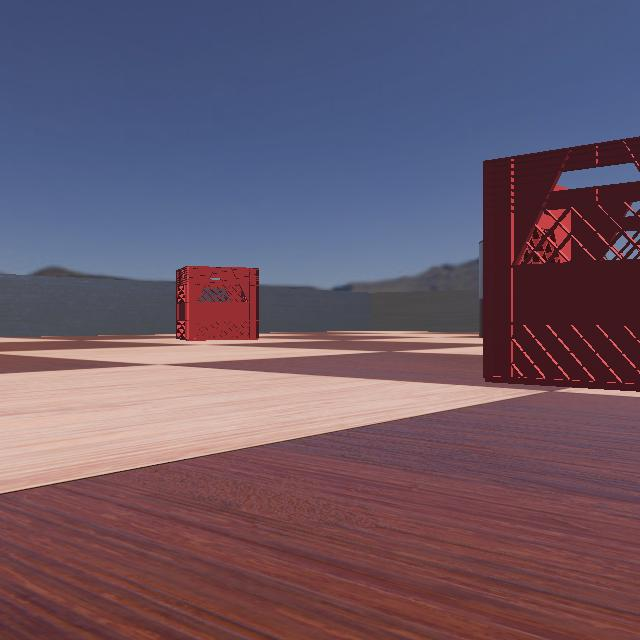plastic-crate: (450, 110, 640, 402), (162, 266, 264, 340), (162, 266, 264, 340)
